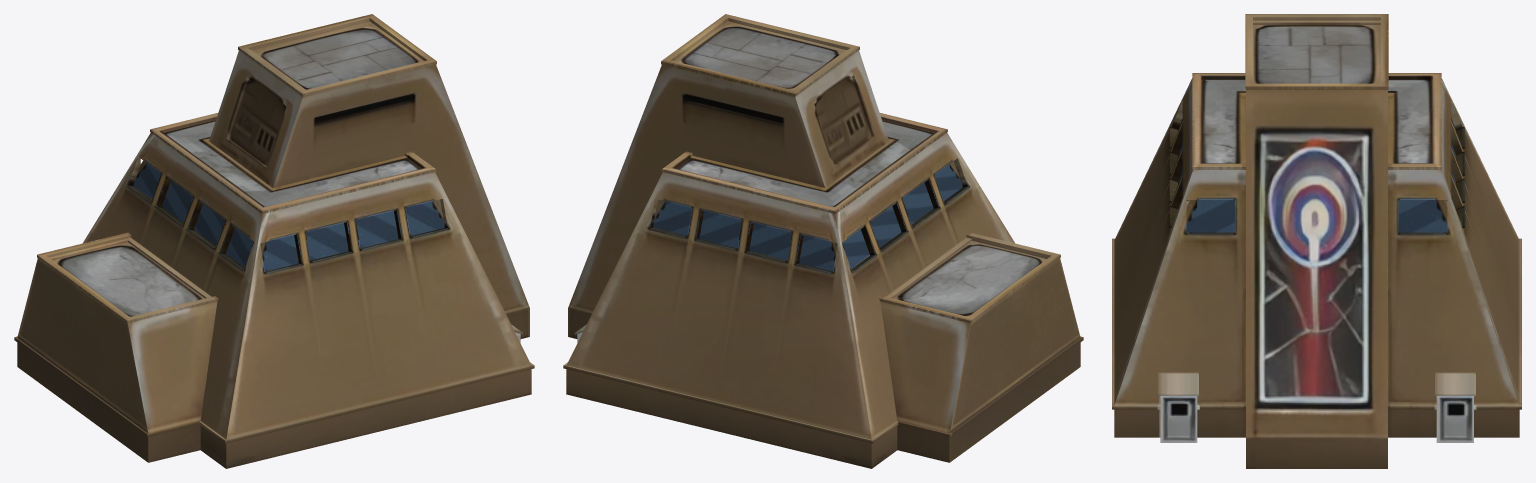
File: hpg_office_cad.glb
3 renders of one model, left to right at view 1: azimuth 30°, elevation 25°; view 2: azimuth 150°, elevation 25°; view 3: azimuth 270°, elevation 25°, orthographic. The views are drawn at different scales.
Visible parts, largest first — view 1: HPG Ziggurat; view 2: HPG Ziggurat; view 3: HPG Ziggurat.
Part boxes in pixels (<box>): HPG Ziggurat: <box>14,14,534,468</box>; HPG Ziggurat: <box>563,14,1083,468</box>; HPG Ziggurat: <box>1112,14,1521,468</box>.
Bounding box in the file's own units: 23.53 × 16.1 × 18.04.
1 material, 1 textured.
